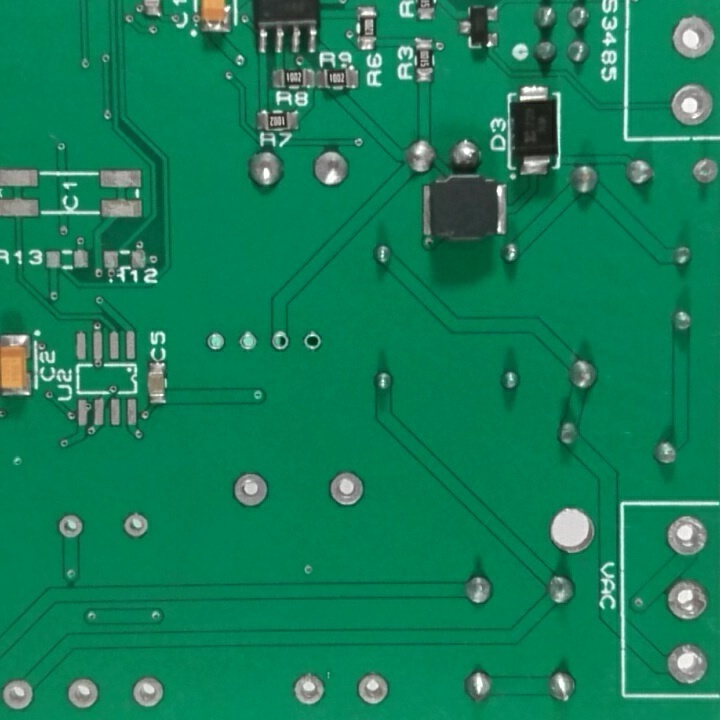F: (662, 509, 713, 560), (668, 10, 719, 60), (665, 82, 716, 130), (661, 640, 710, 689), (666, 576, 712, 628), (324, 467, 369, 511), (227, 470, 273, 513), (284, 672, 329, 711), (353, 667, 392, 709), (61, 675, 105, 711), (130, 672, 168, 712), (1, 676, 36, 715), (119, 507, 154, 543), (690, 155, 720, 188), (56, 510, 87, 541), (235, 328, 262, 353), (202, 327, 226, 355), (267, 328, 293, 352), (299, 330, 326, 352)
